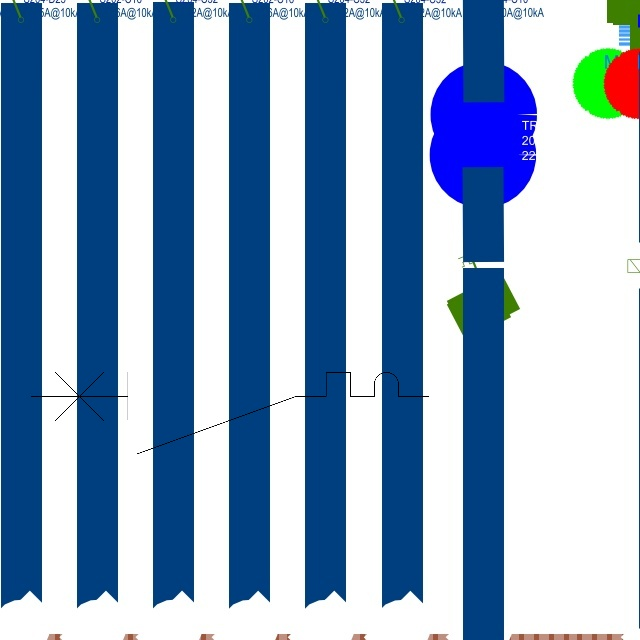interruptor_termomagnetico: (21, 362, 439, 464)
